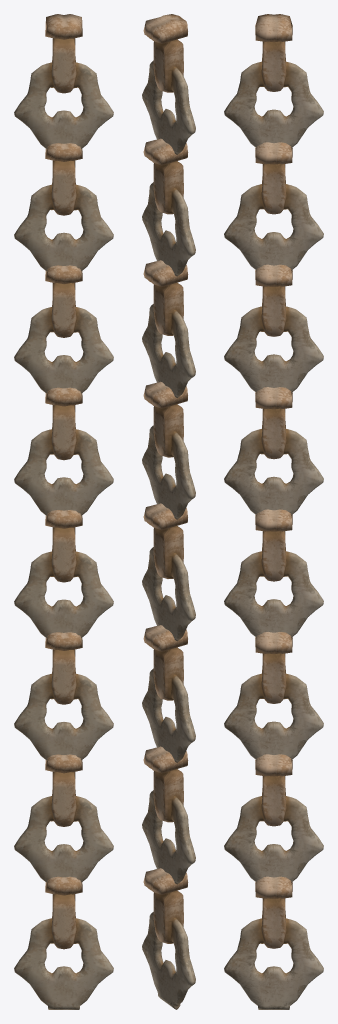
The model's file is CadenaArray.fbx.
3 renders of one model, left to right at view 1: azimuth 90°, elevation 25°; view 2: azimuth 210°, elevation 25°; view 3: azimuth 270°, elevation 25°, orthographic.
Parts seen in each view (by area): view 1: Plane; view 2: Plane; view 3: Plane.
Boxes of the visible parts, x1,y1,x2,y2 form: Plane: [14, 14, 113, 1009]; Plane: [142, 14, 195, 1009]; Plane: [224, 14, 323, 1009].
Bounding box in the file's own units: 81.25 × 2152 × 196.
